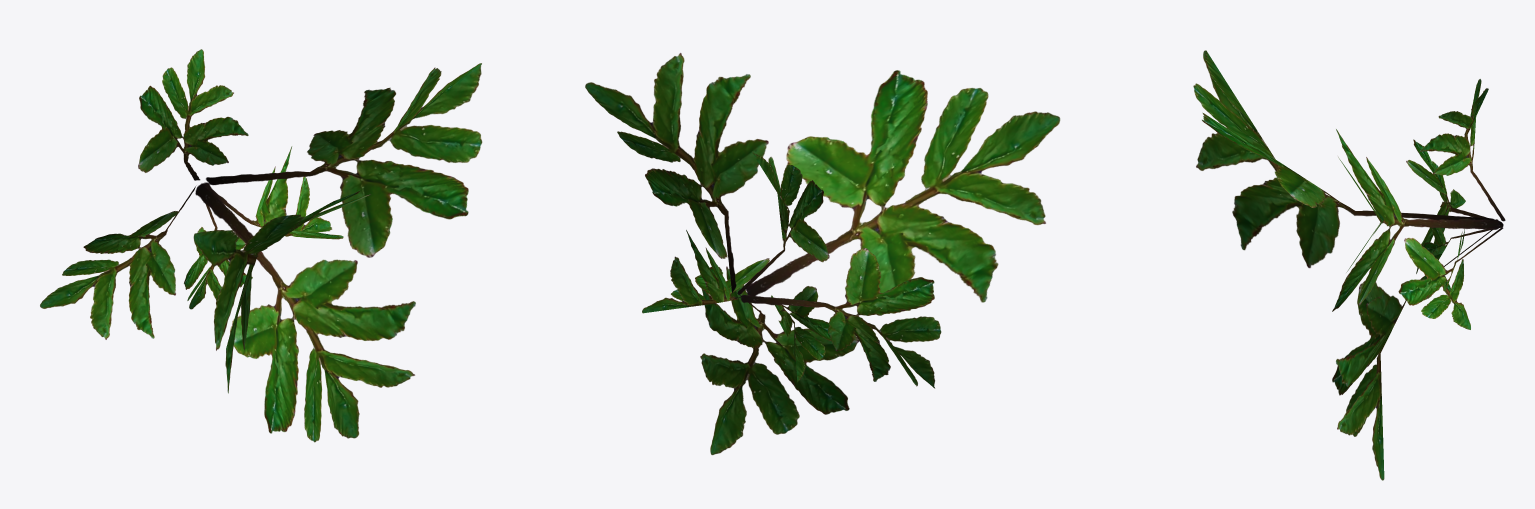
The model's file is Pl_Weed4.glb.
3 renders of one model, left to right at view 1: azimuth 30°, elevation 25°; view 2: azimuth 150°, elevation 25°; view 3: azimuth 270°, elevation 25°, orthographic. The views are drawn at different scales.
Parts seen in each view (by area): view 1: tiny_weed_03; view 2: tiny_weed_03; view 3: tiny_weed_03.
Boxes of the visible parts, <box> form: tiny_weed_03: <box>40,49,482,442</box>; tiny_weed_03: <box>585,53,1060,455</box>; tiny_weed_03: <box>1193,50,1505,480</box>.
Bounding box in the file's own units: 0.4999 × 0.45 × 0.3681.
Materials: 1 (1 with a texture image).
